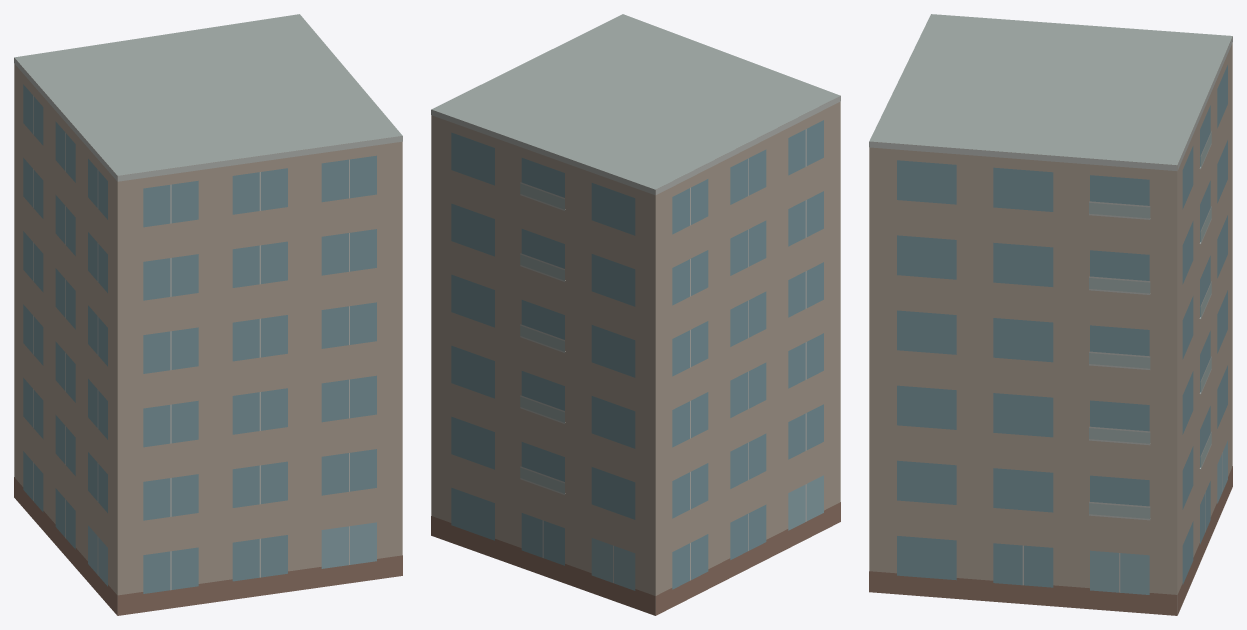
The model's file is survey-upis-32960294.glb.
3 renders of one model, left to right at view 1: azimuth 30°, elevation 25°; view 2: azimuth 150°, elevation 25°; view 3: azimuth 270°, elevation 25°, orthographic. The views are drawn at different scales.
Visible parts, largest first — view 1: survey-upis-32960294.tmp; view 2: survey-upis-32960294.tmp; view 3: survey-upis-32960294.tmp.
Part boxes in pixels (x1=…): survey-upis-32960294.tmp: x1=14, y1=14, x2=402, y2=615; survey-upis-32960294.tmp: x1=431, y1=14, x2=840, y2=615; survey-upis-32960294.tmp: x1=869, y1=14, x2=1232, y2=615.
Bounding box in the file's own units: 13.18 × 18.3 × 13.39.
